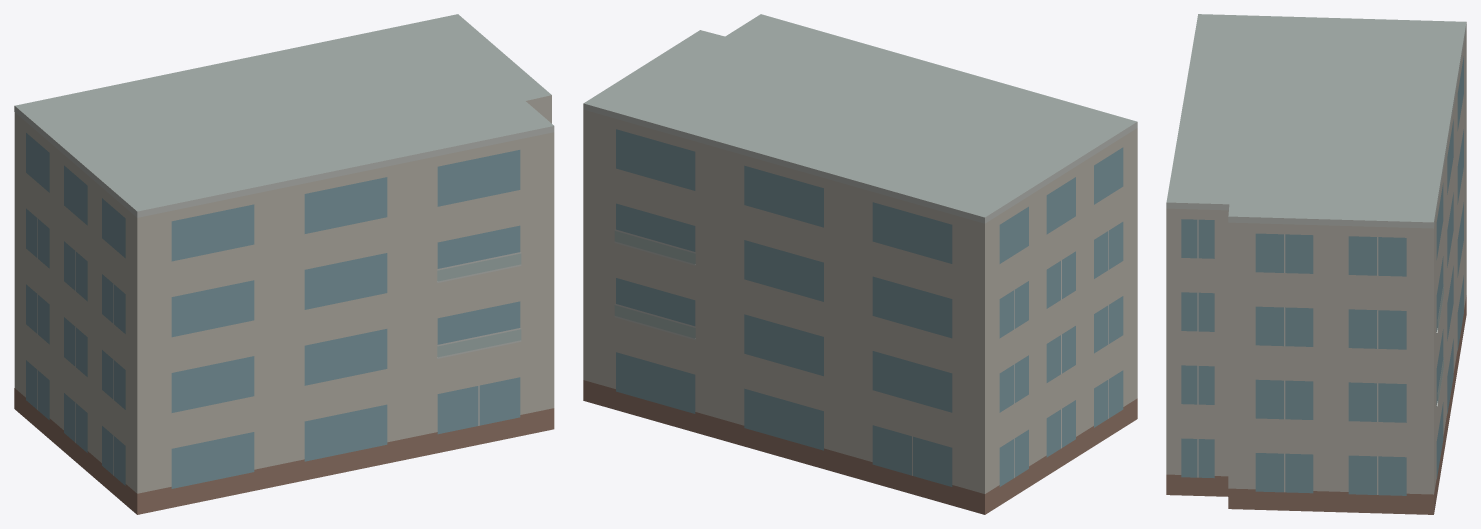
The model's file is survey-upis-32719863.glb.
3 renders of one model, left to right at view 1: azimuth 30°, elevation 25°; view 2: azimuth 150°, elevation 25°; view 3: azimuth 270°, elevation 25°, orthographic. The views are drawn at different scales.
Visible parts, largest first — view 1: survey-upis-32719863.tmp; view 2: survey-upis-32719863.tmp; view 3: survey-upis-32719863.tmp.
Boxes of the visible parts, left/top/right/bottom form: survey-upis-32719863.tmp: left=14, top=14, right=554, bottom=514; survey-upis-32719863.tmp: left=583, top=14, right=1137, bottom=514; survey-upis-32719863.tmp: left=1166, top=14, right=1466, bottom=514.
Size of the model in its own units: 17.97 by 11.75 by 10.94.
